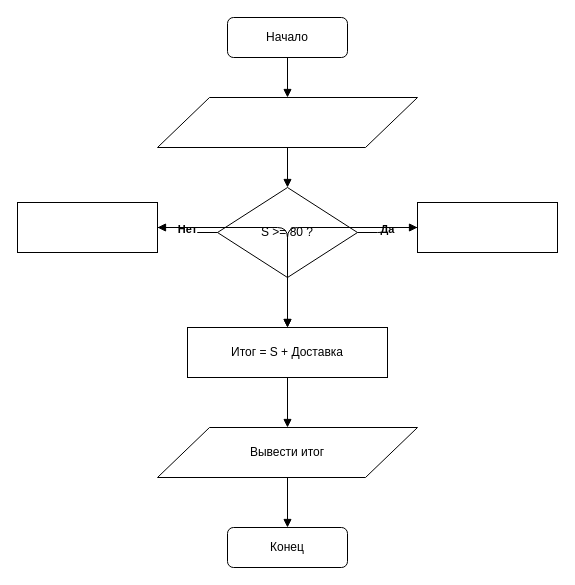
Image size: 575x585. Some labels were removed from this diagram. The box of each missing label's shape, as (x1, y1, x2, y2) in pixels:
Ввести стоимость заказа S: (156, 96, 418, 148)
Доставка = 0: (416, 202, 558, 252)
Доставка = 10: (16, 202, 158, 252)
